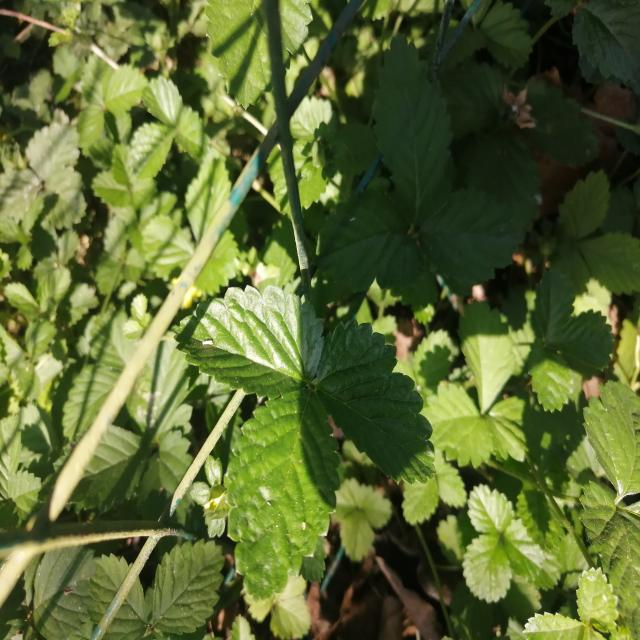Mock_strawberry: (178, 264, 442, 599)
